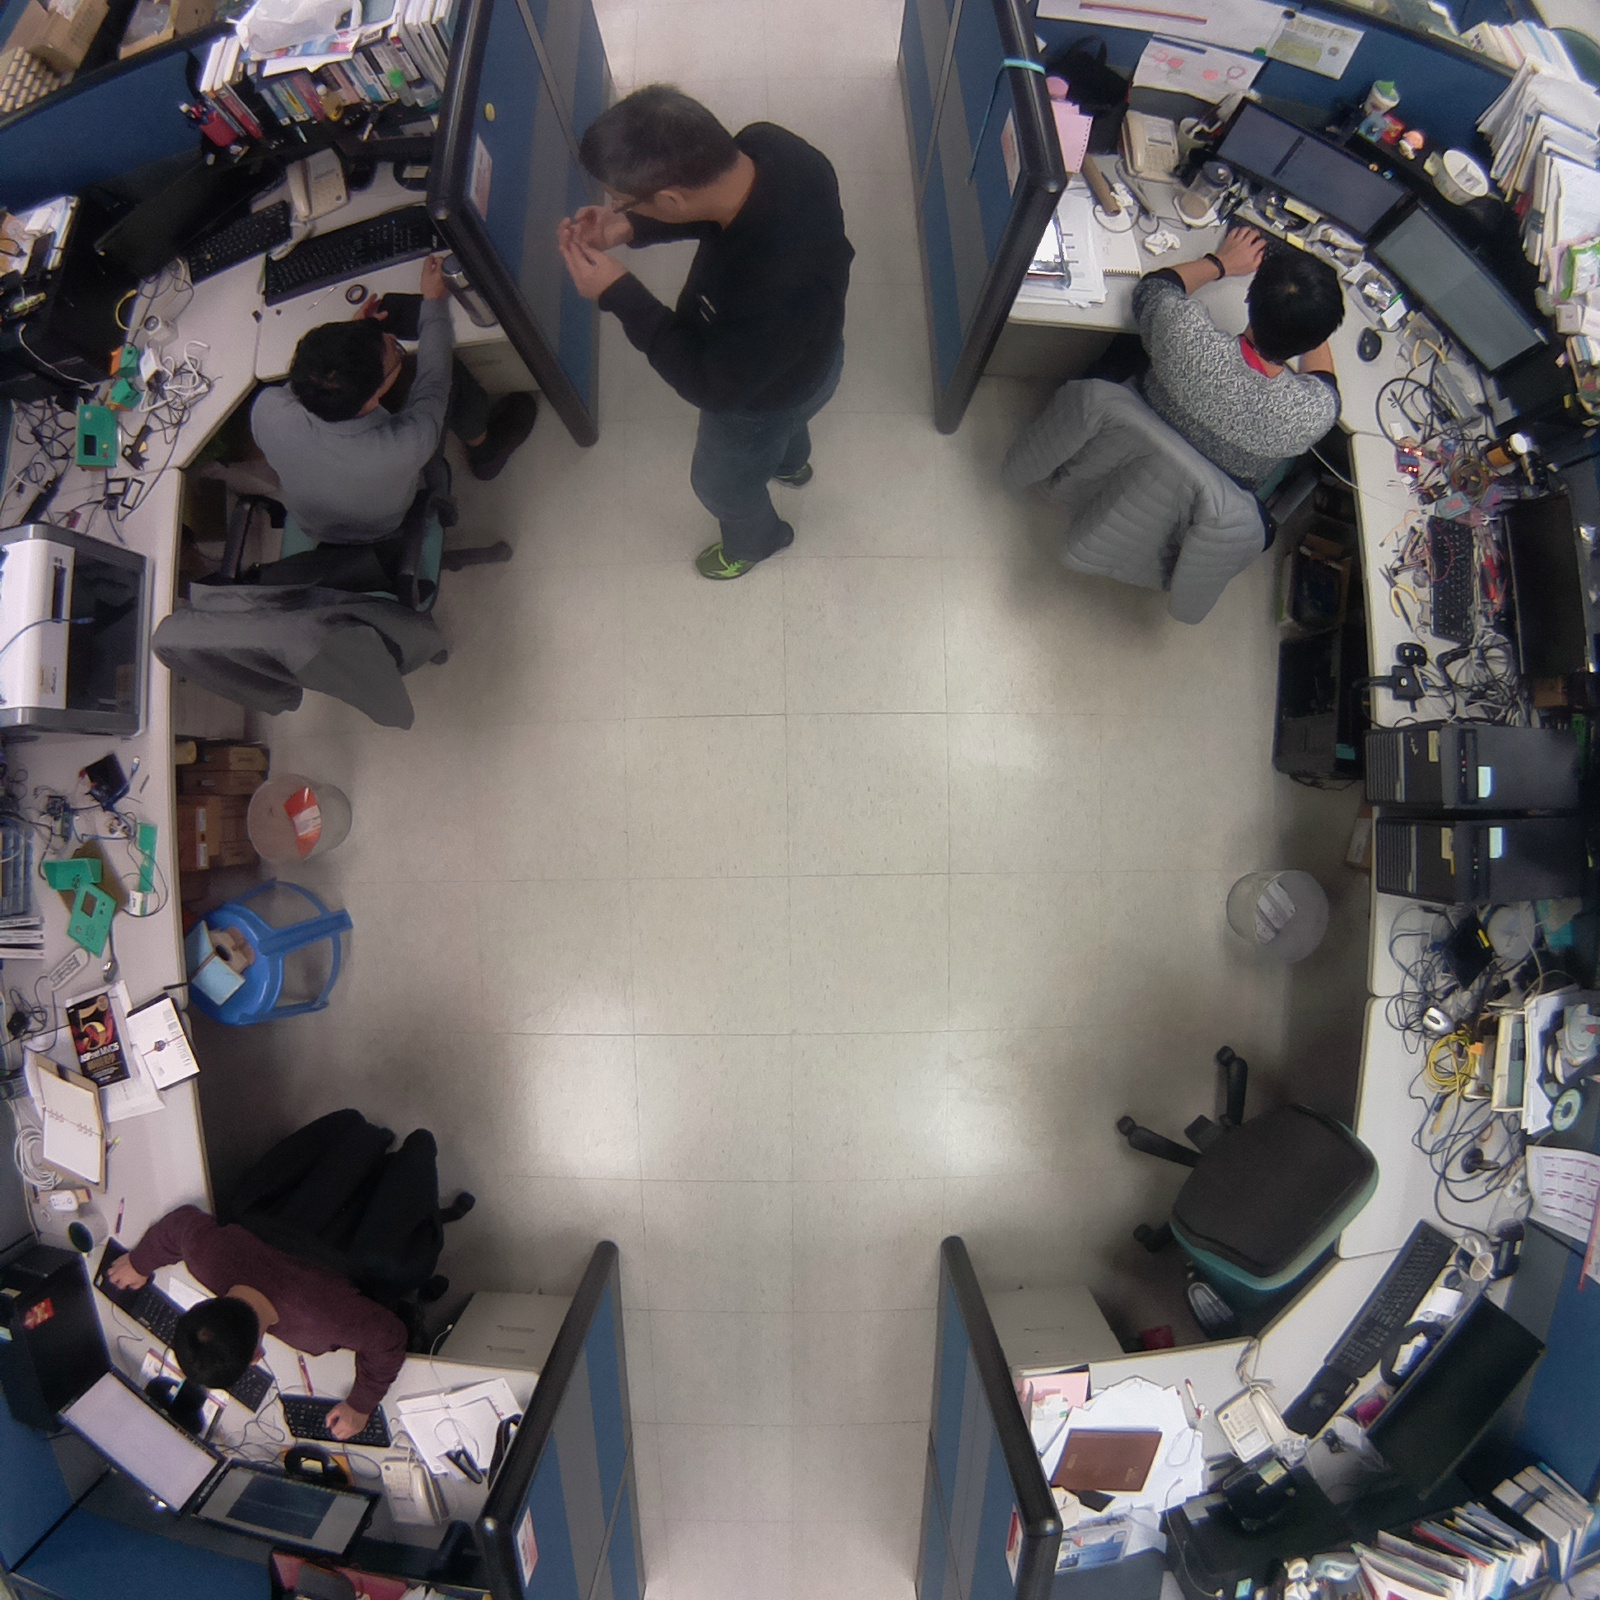chair: (1099, 1032, 1386, 1350)
head: (570, 72, 759, 238), (1242, 244, 1353, 370), (278, 317, 408, 421), (166, 1287, 268, 1400)
sitting: (137, 297, 535, 760), (973, 238, 1351, 632), (104, 1091, 483, 1417)
standing: (562, 81, 864, 603)
